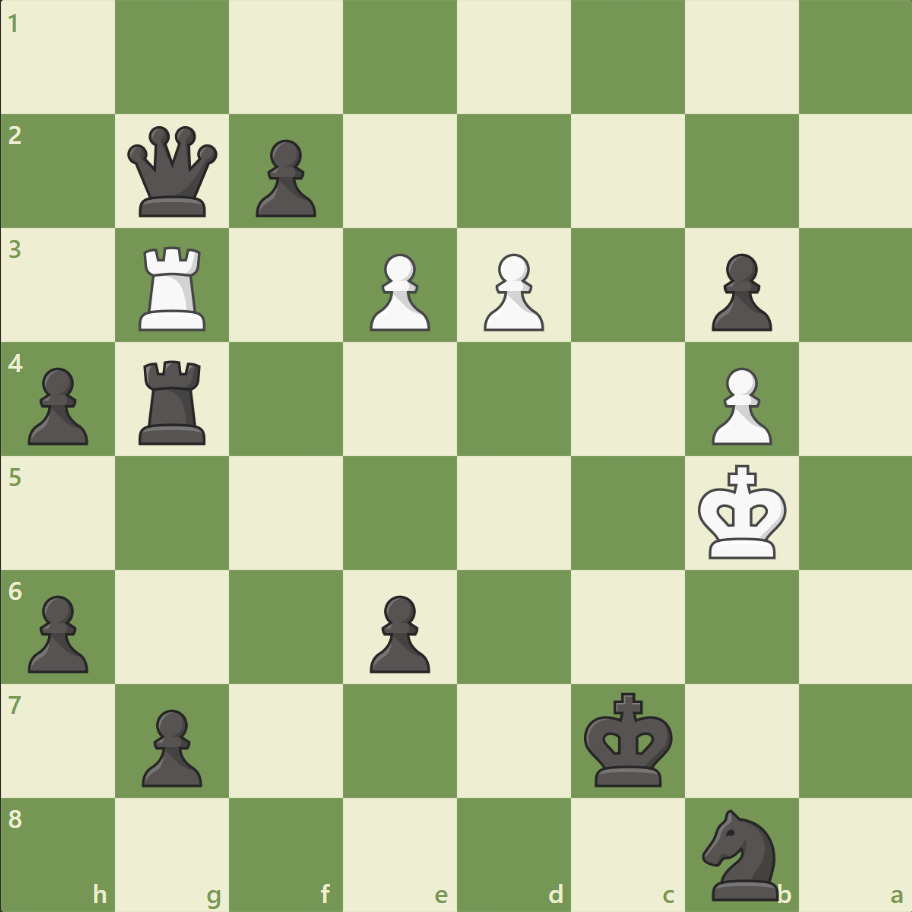K: (692, 458, 792, 566)
P: (701, 359, 776, 450), (474, 246, 549, 337), (361, 246, 435, 337)
R: (133, 239, 215, 336)
k: (579, 685, 679, 793)
n: (692, 802, 789, 904)
p: (133, 700, 208, 791), (20, 586, 95, 677), (20, 359, 95, 450), (701, 246, 776, 337), (247, 132, 322, 223), (361, 586, 435, 677)
q: (124, 122, 223, 222)
r: (133, 352, 215, 449)
